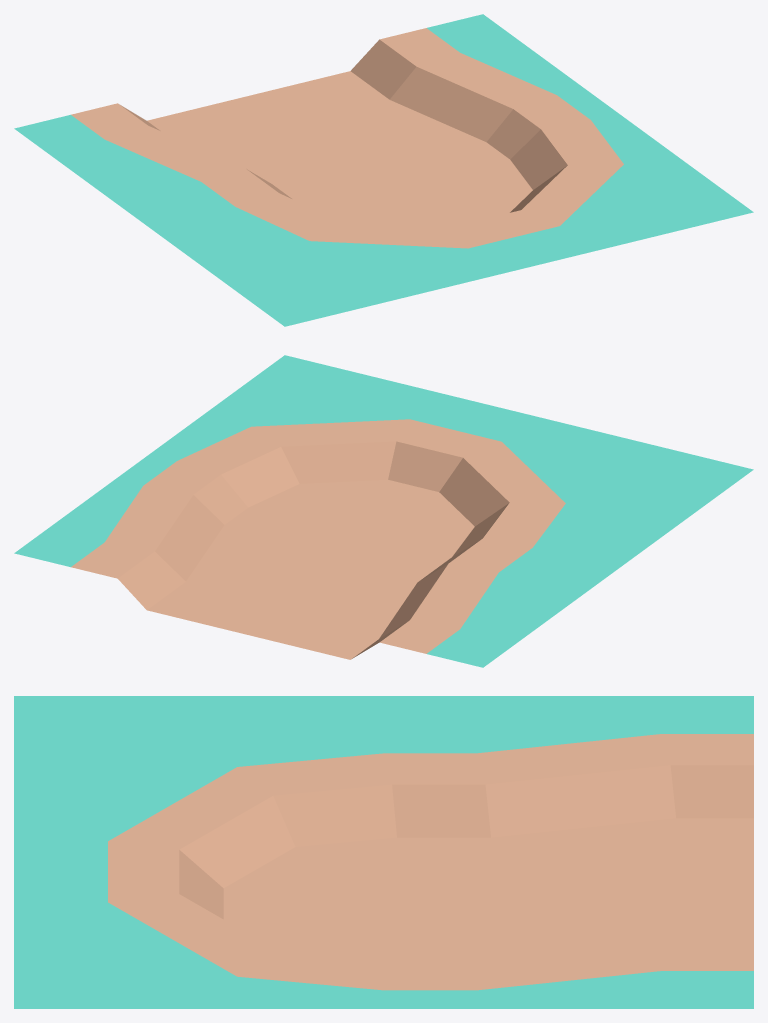
Rendered from ground_pathEndClosed.gltf.
3 renders of one model, top to bottom at view 1: azimuth 30°, elevation 25°; view 2: azimuth 150°, elevation 25°; view 3: azimuth 270°, elevation 25°, orthographic. The views are drawn at different scales.
Parts seen in each view (by area): view 1: ground_pathEndClosed; view 2: ground_pathEndClosed; view 3: ground_pathEndClosed.
Boxes of the visible parts, left/top/right/bottom form: ground_pathEndClosed: left=14, top=14, right=753, bottom=326; ground_pathEndClosed: left=14, top=355, right=753, bottom=667; ground_pathEndClosed: left=14, top=696, right=753, bottom=1008.
Bounding box in the file's own units: 1 × 0.05 × 1.
